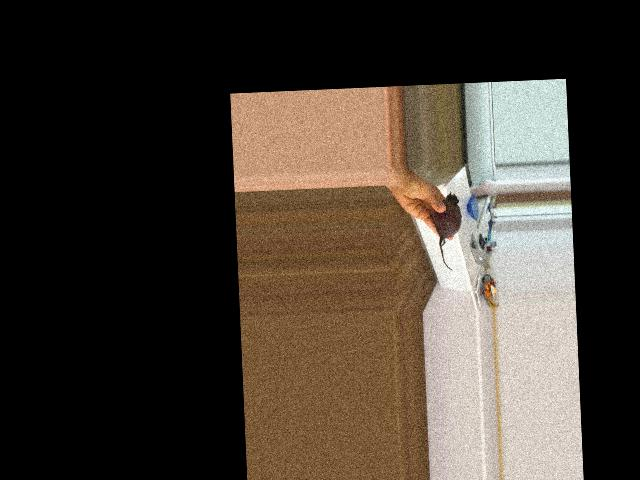beet: (432, 192, 463, 271)
